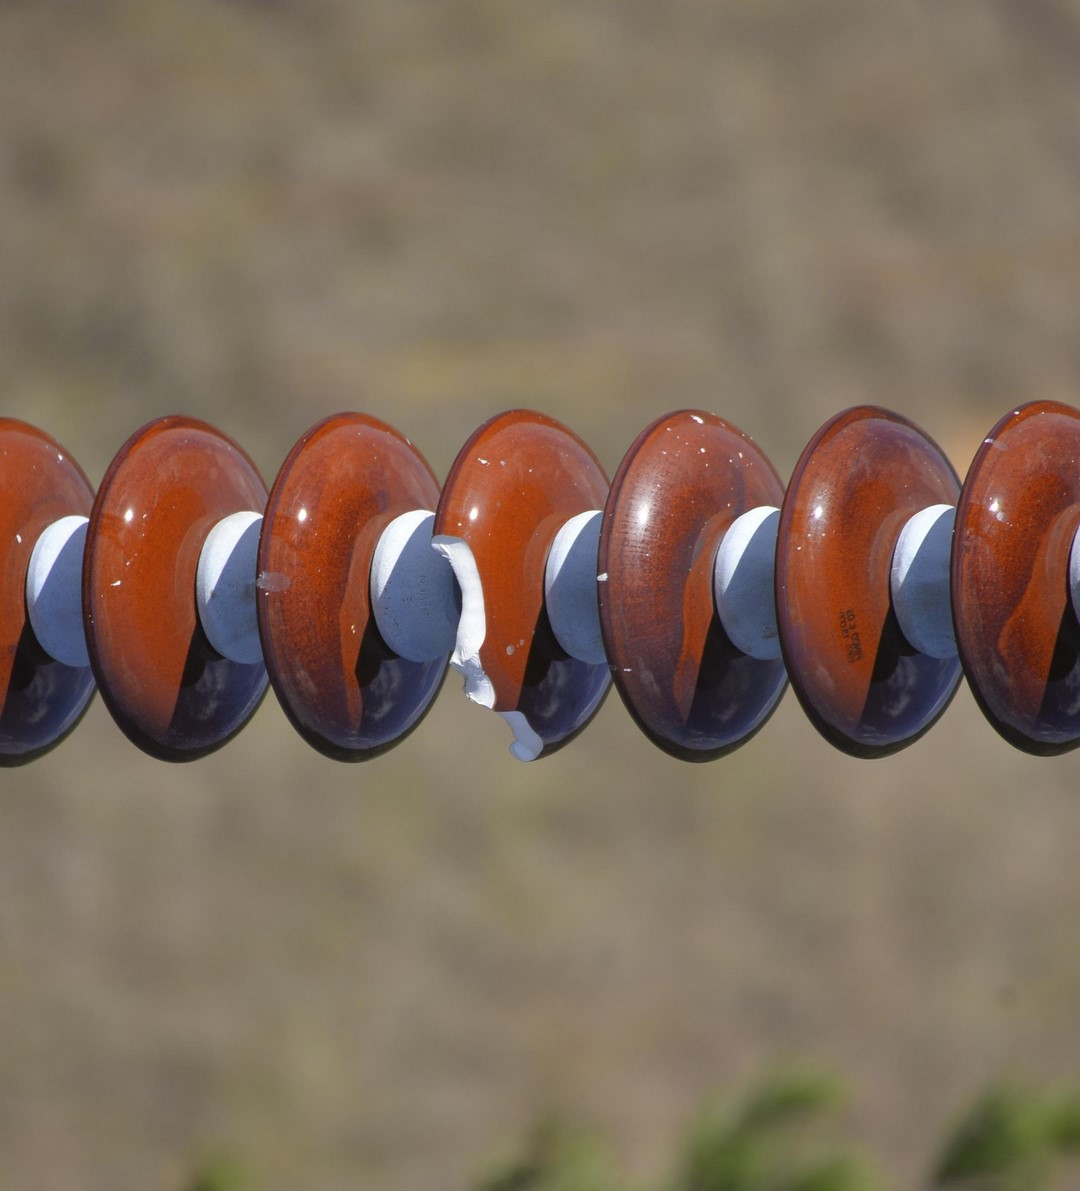insulator breakage: (418, 404, 612, 767)
